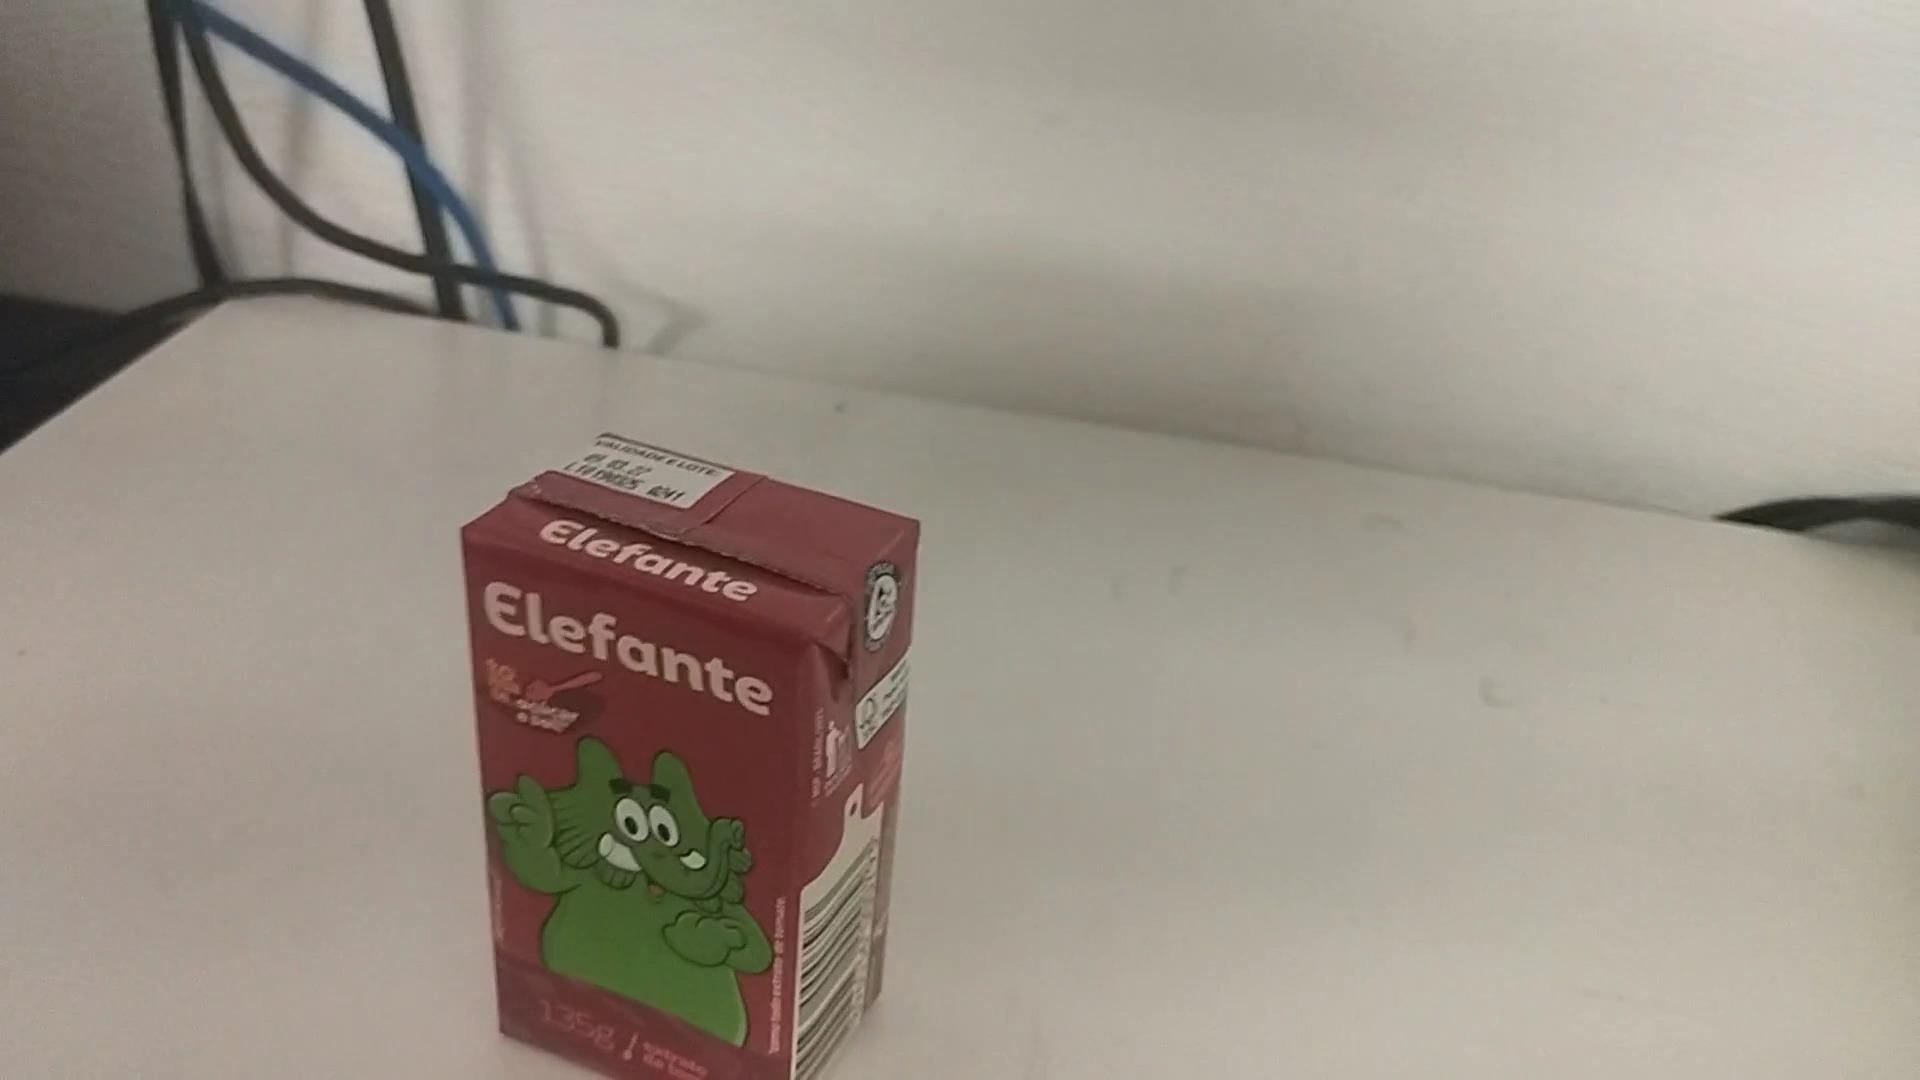tomate: (456, 427, 923, 1073)
